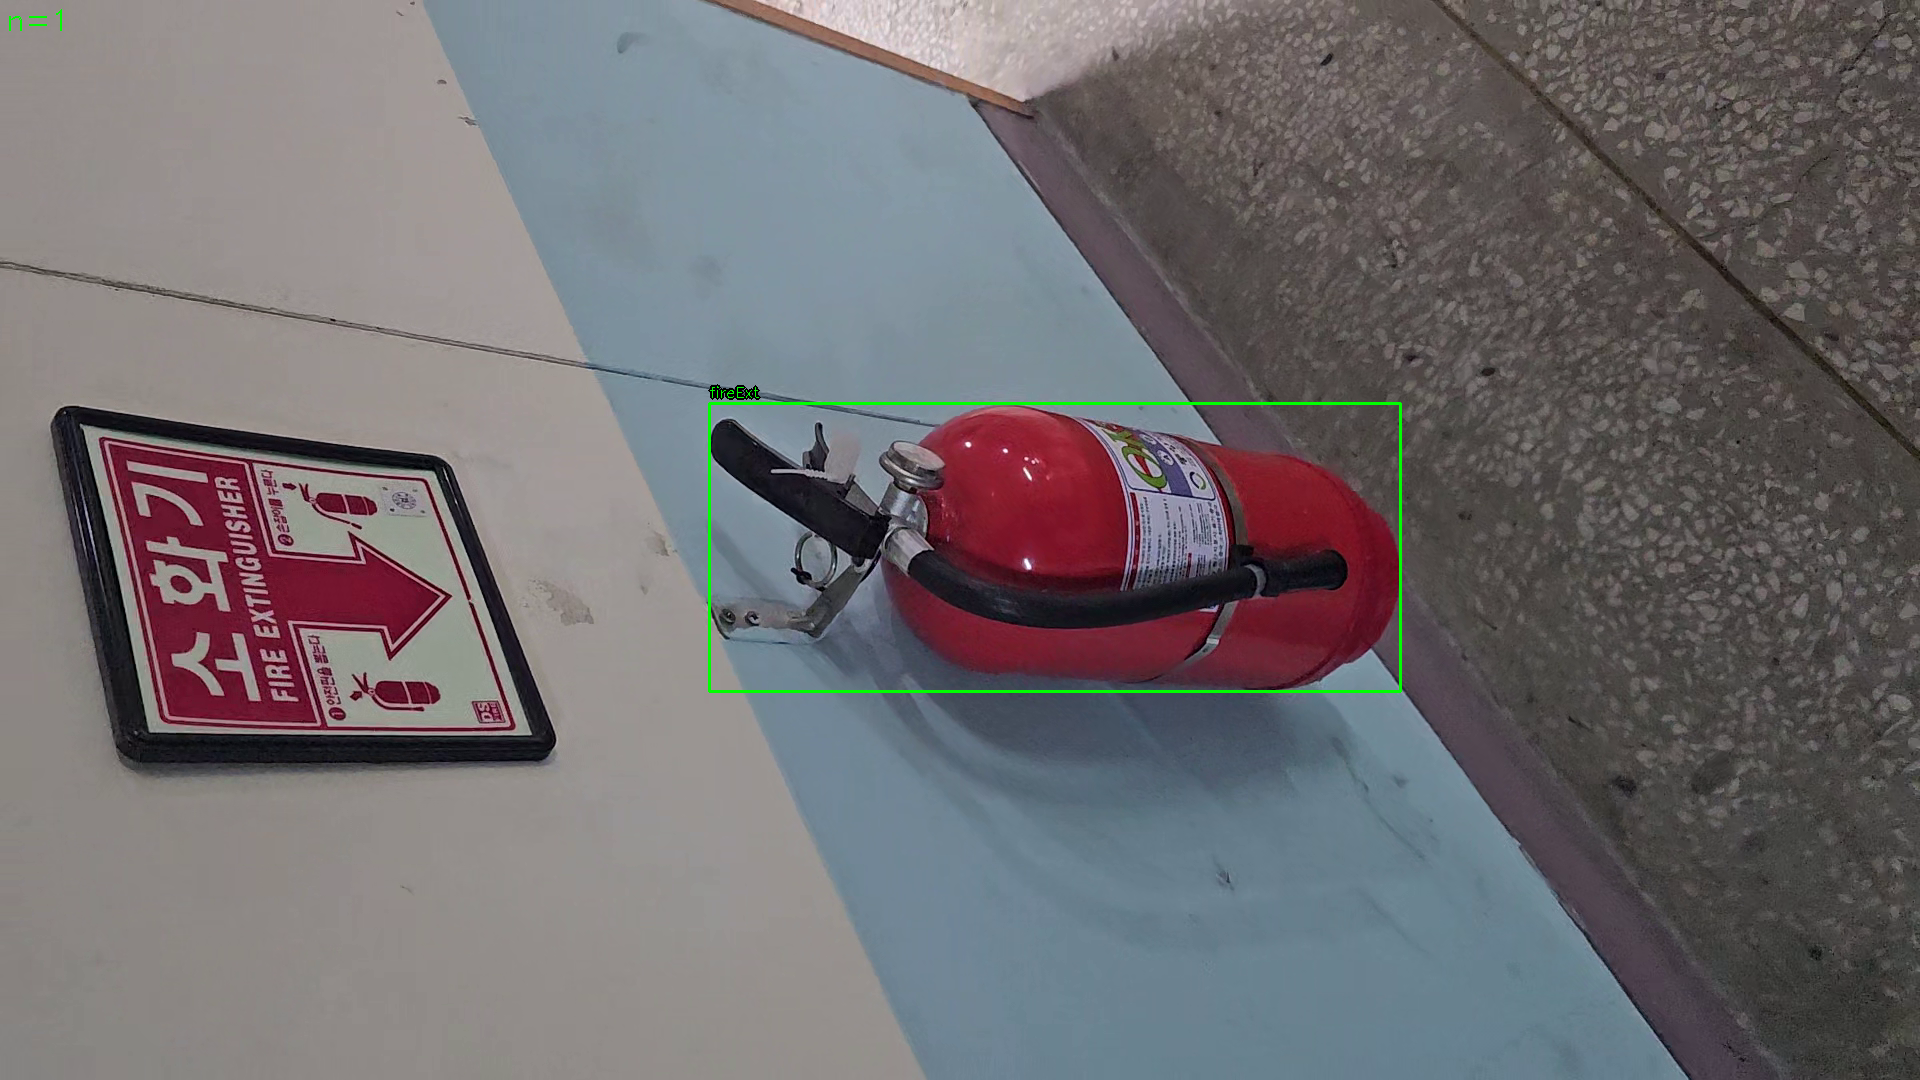lane: (709, 404, 1400, 692)
